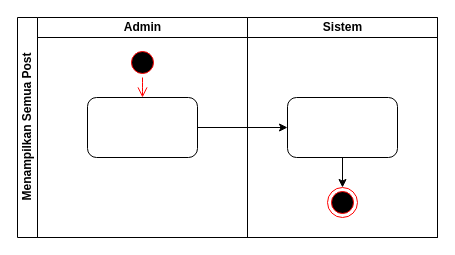
Some shapes in this 455 by 255 pixel diagram are drawn without their labels. The shapes that lost their labels are listed below. From the top down, each one's centre as x and y in pixels, then its label:
At [142,127]: "Membuka halaman tampil semua post".
At [342,127]: "Menampilkan halaman semua post".
